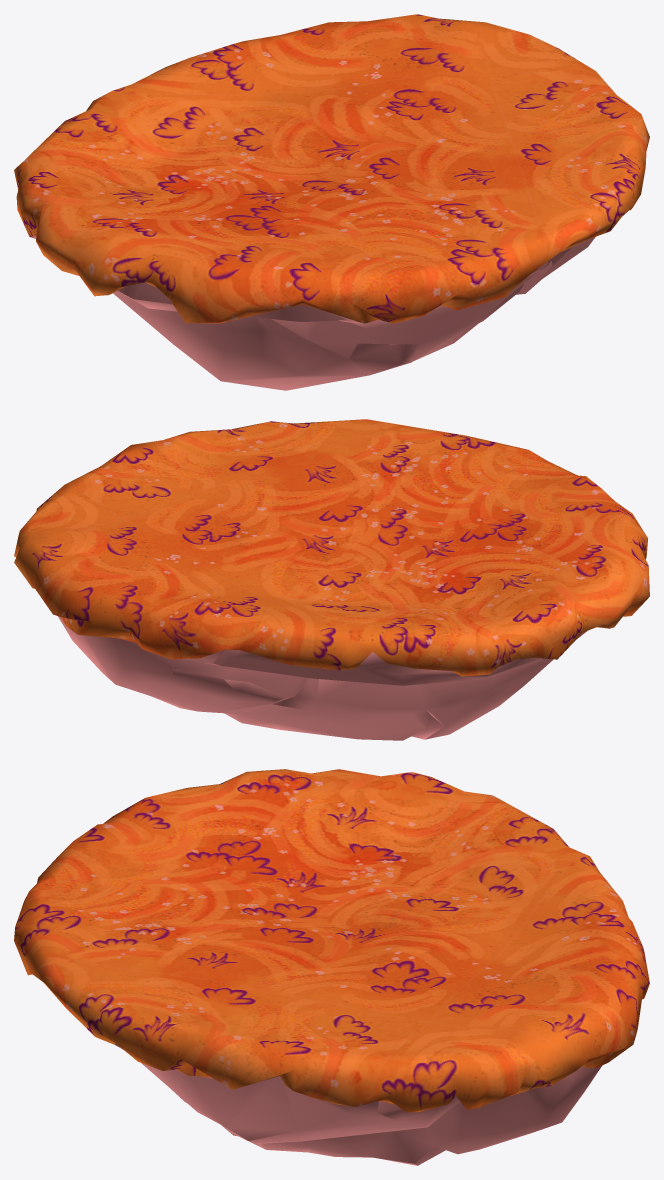
File: entity439596.gltf
3 renders of one model, top to bottom at view 1: azimuth 30°, elevation 25°; view 2: azimuth 150°, elevation 25°; view 3: azimuth 270°, elevation 25°, orthographic. The views are drawn at different scales.
Parts seen in each view (by area): view 1: node_Floating_island_04; view 2: node_Floating_island_04; view 3: node_Floating_island_04.
Part boxes in pixels (x1,y1,x2,y2): node_Floating_island_04: (14, 14, 649, 390); node_Floating_island_04: (14, 419, 649, 740); node_Floating_island_04: (14, 769, 649, 1165).
Bounding box in the file's own units: 2887 × 951 × 2522.
